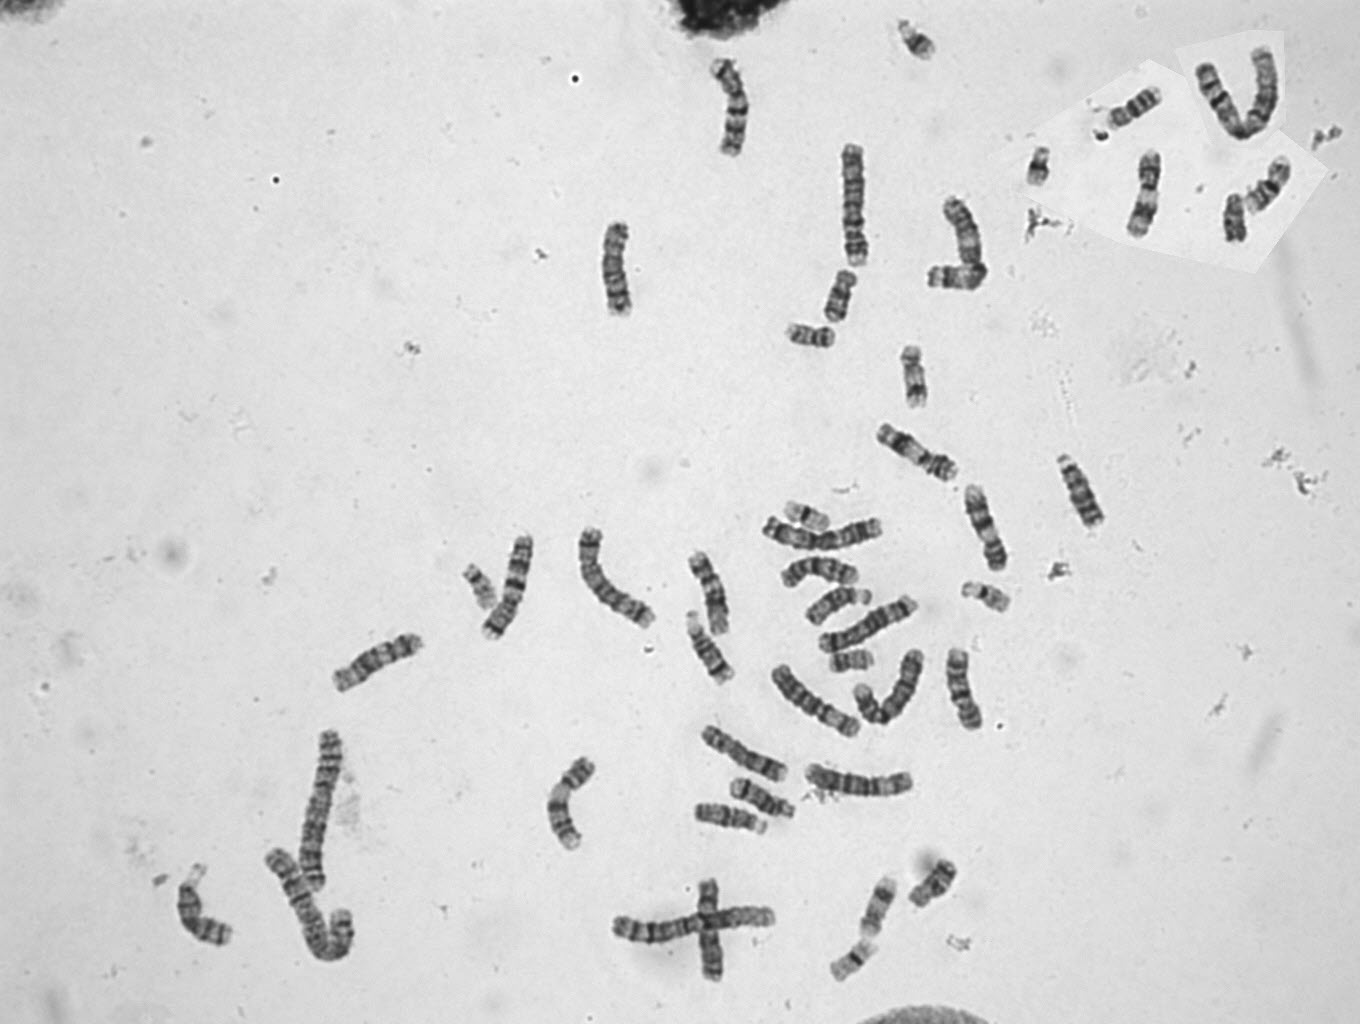chromosomes: (258, 845, 356, 966), (1186, 45, 1279, 143), (576, 527, 657, 631), (296, 726, 345, 894), (916, 188, 994, 294), (765, 666, 867, 742), (330, 624, 432, 698), (609, 904, 779, 945), (812, 593, 925, 656), (479, 530, 536, 645), (851, 645, 928, 727), (175, 859, 242, 951), (543, 749, 600, 854), (697, 722, 791, 785), (871, 423, 963, 486), (702, 56, 751, 158), (833, 141, 874, 264), (1053, 449, 1111, 532), (755, 516, 886, 553), (962, 483, 1013, 573), (684, 547, 732, 639), (683, 609, 735, 688), (803, 763, 917, 799), (693, 873, 729, 985), (597, 217, 633, 321), (1125, 148, 1165, 239), (1243, 155, 1297, 223), (944, 643, 984, 734), (725, 776, 798, 821), (1102, 82, 1169, 131), (799, 586, 876, 628), (777, 556, 862, 593), (824, 937, 881, 987), (856, 873, 898, 941), (905, 859, 960, 911), (692, 803, 774, 837), (820, 265, 862, 329), (893, 343, 932, 412), (457, 561, 504, 611), (892, 18, 941, 66), (775, 500, 836, 534), (955, 580, 1015, 613), (1223, 191, 1252, 256), (1020, 143, 1057, 193), (825, 646, 876, 681), (781, 322, 838, 352)
